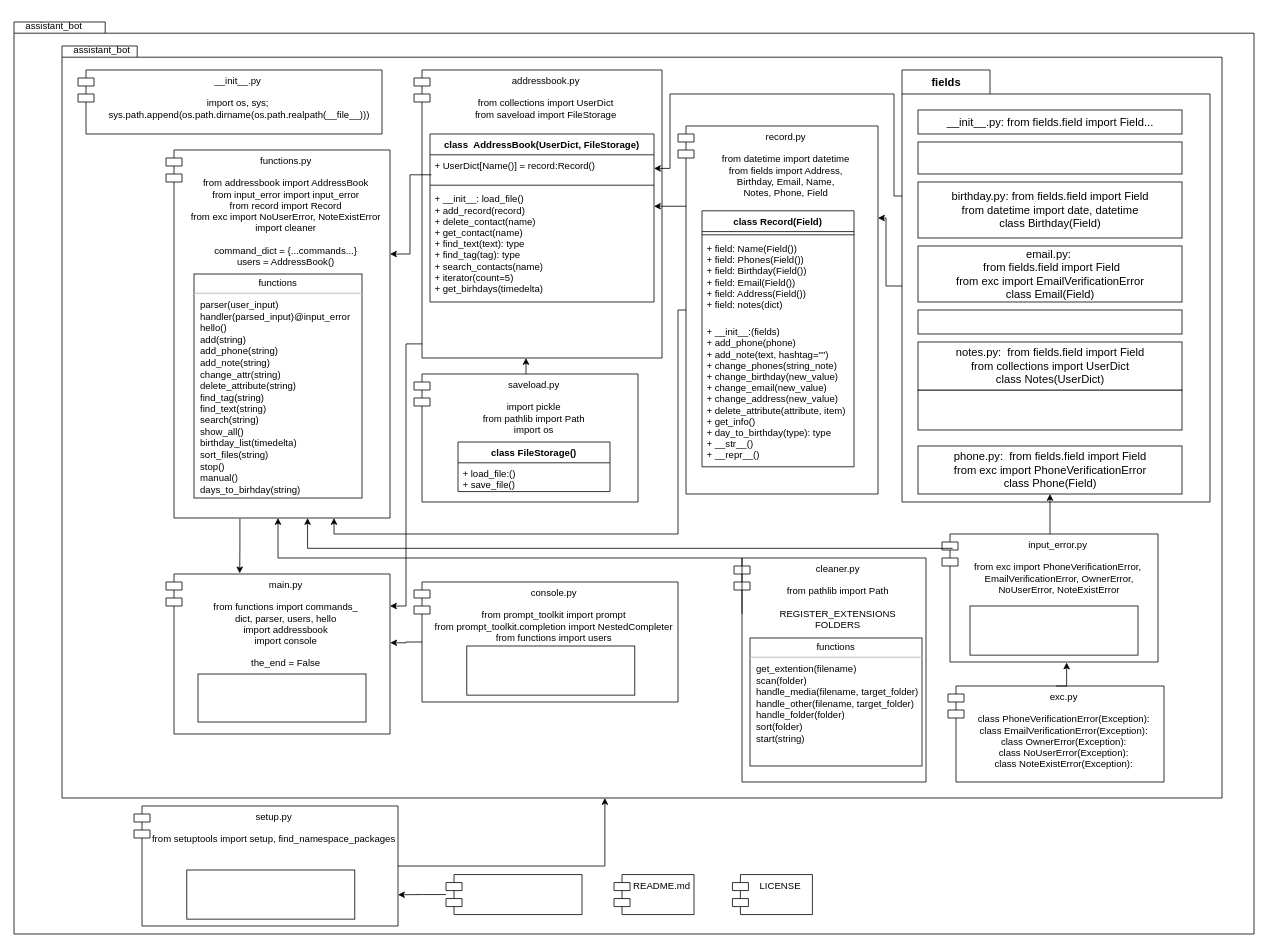
The diagram is 1268 pixels wide and 948 high, and some of its shapes have lost their labels. Here are the shapes that lost their labels. From the top down, the centre of each, then its label:
pixel 1049 157: address.py: from fields.field import Field class Address(Field)
pixel 1049 321: field.py: class Field()
pixel 1049 409: name.py: from fields.field import Field class Name(Fields)
pixel 1053 630: functions input_error(func): inner(*args, **kwargs)
pixel 550 670: functions get_input(prompt_text)
pixel 281 697: functions main()
pixel 270 894: functions setup(...)
pixel 513 894: requirements.txt
